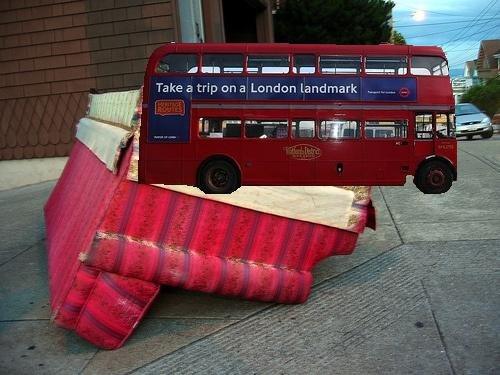tampered: (139, 43, 457, 194)
